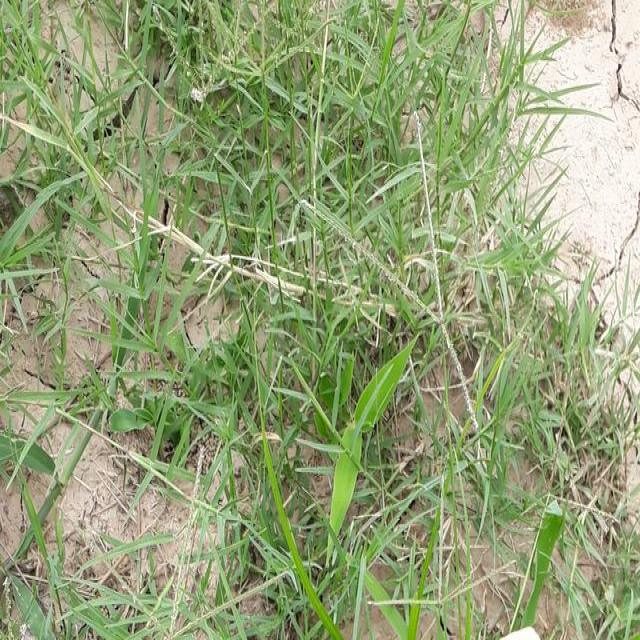weed: (136, 5, 522, 622)
